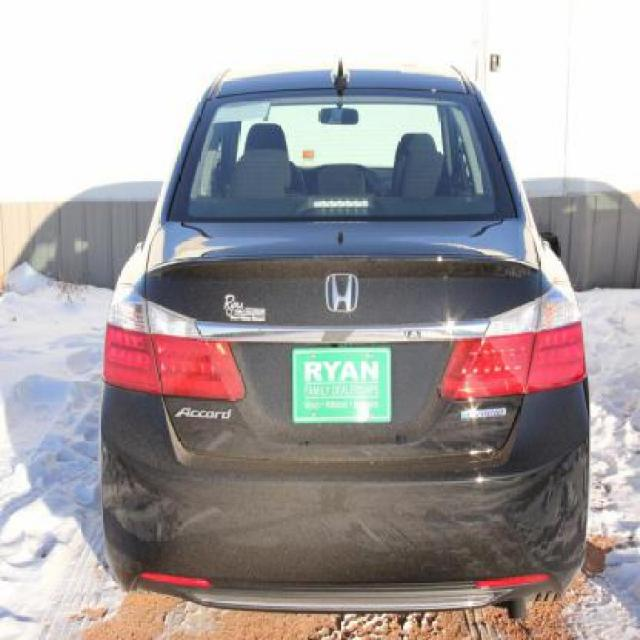License-Plates: (287, 340, 394, 430)
